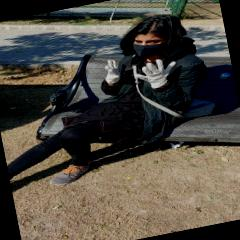gloved: (133, 56, 179, 92), (102, 58, 122, 84)
